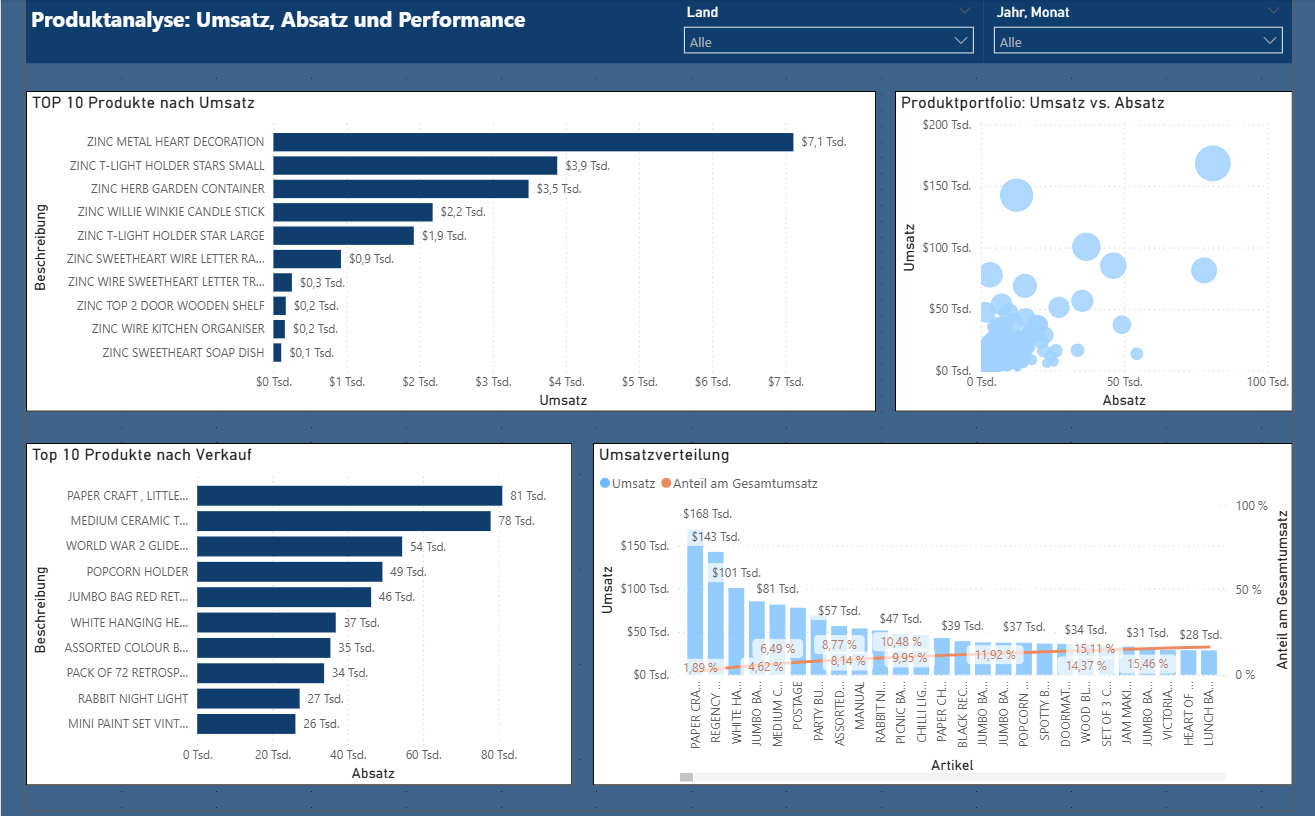

What the dashboard file says about the page in this screenshot:
{"tool":"powerbi","page":{"name":"Produktanalyse","canvas":[1280,820],"ordinal":1},"visuals":[{"type":"textbox","box":[0,0,655.2,65.3],"z":0},{"type":"barChart","title":"TOP 10 Produkte nach Umsatz","fields":{"Y":["fact_sales.Total Revenue"],"Category":["dim_product.Description"]},"box":[0,93,858.9,324.4],"z":1000},{"type":"clusteredBarChart","title":"Top 10 Produkte nach Verkauf","fields":{"Category":["dim_product.Description"],"Y":["fact_sales.Total Units"]},"box":[0,448.7,551.7,345.6],"z":2000},{"type":"scatterChart","title":"Produktportfolio: Umsatz vs. Absatz","fields":{"X":["fact_sales.Total Units"],"Y":["fact_sales.Total Revenue"],"Category":["dim_product.Description"],"Size":["fact_sales.Total Revenue"]},"box":[878.1,93,402.2,324.4],"z":3000},{"type":"lineClusteredColumnComboChart","title":"Umsatzverteilung","fields":{"Y":["fact_sales.Total Revenue"],"Y2":["fact_sales.Revenue Share"],"Category":["dim_product.Description"]},"box":[573,448.7,707.4,345.6],"z":4000},{"type":"slicer","fields":{"Values":["dim_date.Date.Variation.Datumshierarchie.Jahr","dim_date.Date.Variation.Datumshierarchie.Monat"]},"box":[967.9,0,311.8,65.3],"z":5000},{"type":"slicer","fields":{"Values":["dim_customer.Country"]},"box":[655.2,0,312.7,65.3],"z":6000}]}

Visuals, with their boxes in screenshot pixels (x1, y1, x2, y2):
textbox: (34, 0, 676, 64)
"TOP 10 Produkte nach Umsatz" barChart: (34, 91, 876, 409)
"Top 10 Produkte nach Verkauf" clusteredBarChart: (34, 440, 575, 779)
"Produktportfolio: Umsatz vs. Absatz" scatterChart: (895, 91, 1289, 409)
"Umsatzverteilung" lineClusteredColumnComboChart: (596, 440, 1289, 779)
slicer - dim_date.Date.Variation.Datumshierarchie.Jahr x dim_date.Date.Variation.Datumshierarchie.Monat: (983, 0, 1289, 64)
slicer - dim_customer.Country: (676, 0, 983, 64)
